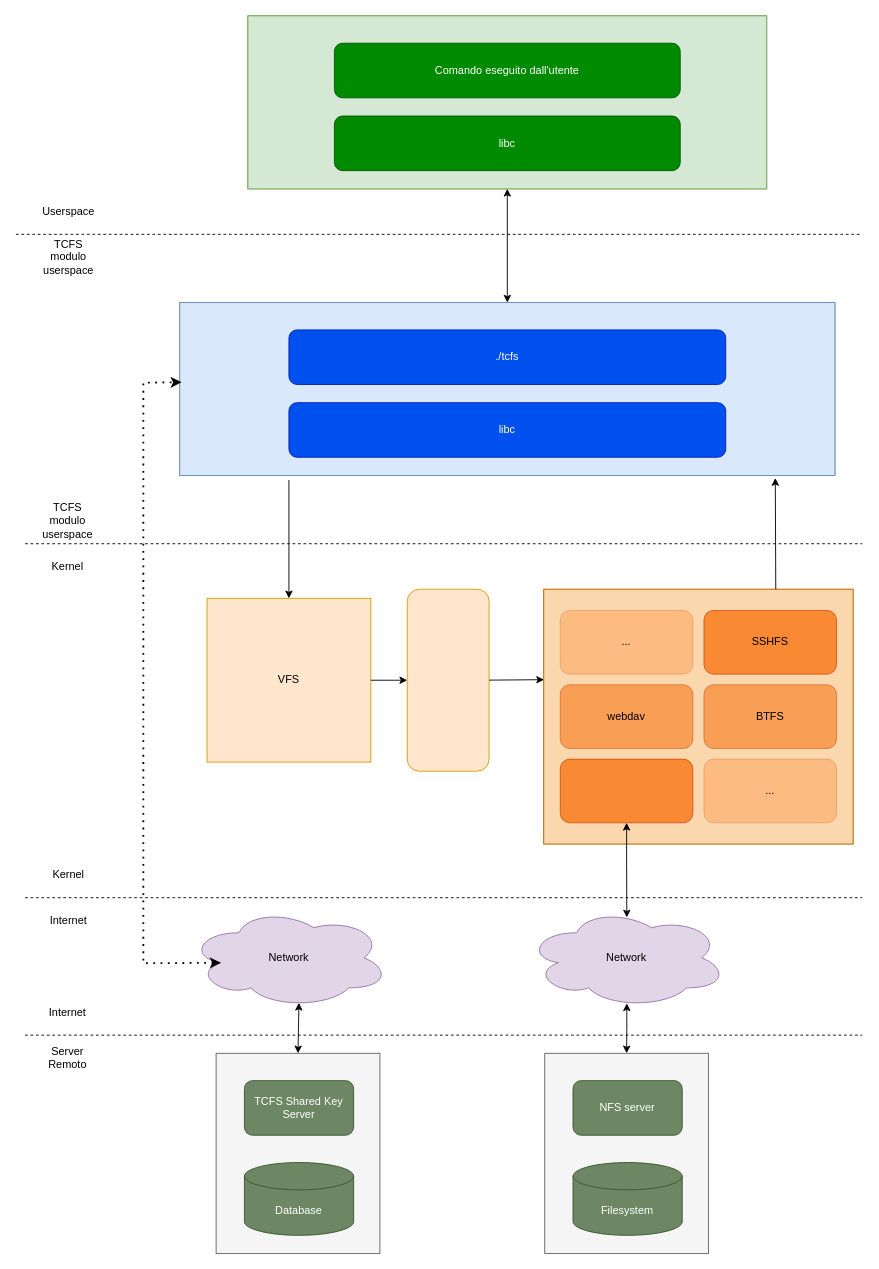
The diagram is 879 pixels wide and 1269 high, and some of its shapes have lost their labels. Each missing label, with the centre of its shape:
FUSE kernel module: [447,679]
NFS: [626,790]
